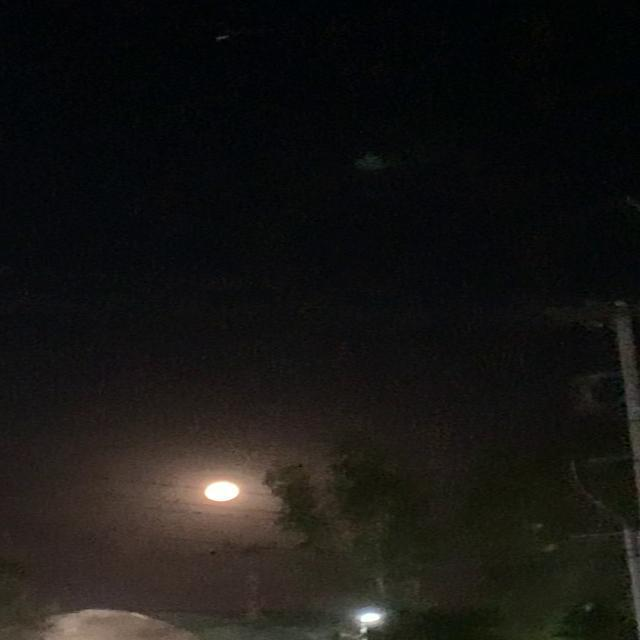moon: (203, 476, 256, 502)
